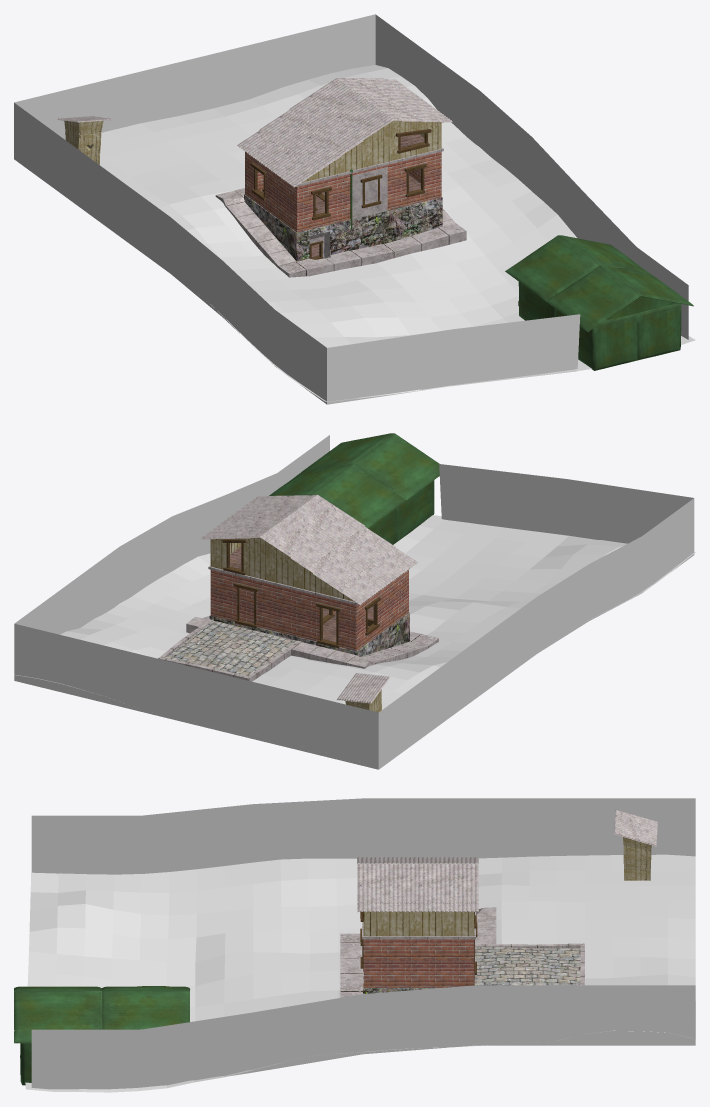
The model's file is Garden.fbx.
3 renders of one model, top to bottom at view 1: azimuth 30°, elevation 25°; view 2: azimuth 150°, elevation 25°; view 3: azimuth 270°, elevation 25°, orthographic. The views are drawn at different scales.
Visible parts, largest first — view 1: Wall, Garden, House, Garage, RoofTile, DoorFrame, WallSegment, Toilette; view 2: Wall, Garden, House, RoofTile, Garage, DoorFrame, Toilette; view 3: Wall, Garden, House, Garage, RoofTile, Toilette.
Part boxes in pixels (<box>): Wall: <box>14,14,688,404</box>; Garden: <box>100,65,695,401</box>; House: <box>215,120,466,277</box>; Garage: <box>505,235,693,370</box>; RoofTile: <box>237,78,452,187</box>; DoorFrame: <box>250,129,431,259</box>; WallSegment: <box>350,167,387,229</box>; Toilette: <box>57,116,112,164</box>; Wall: <box>14,435,694,769</box>; Garden: <box>14,515,695,709</box>; House: <box>158,537,438,681</box>; RoofTile: <box>200,494,417,604</box>; Garage: <box>269,433,439,544</box>; DoorFrame: <box>222,539,380,648</box>; Toilette: <box>337,673,390,712</box>; Wall: <box>31,798,695,1089</box>; Garden: <box>25,854,695,1092</box>; House: <box>340,863,584,997</box>; Garage: <box>14,986,190,1085</box>; RoofTile: <box>357,857,478,912</box>; Toilette: <box>614,810,657,880</box>.
Size of what is drawn, in the model's own units: 2038 by 807 by 3082.
